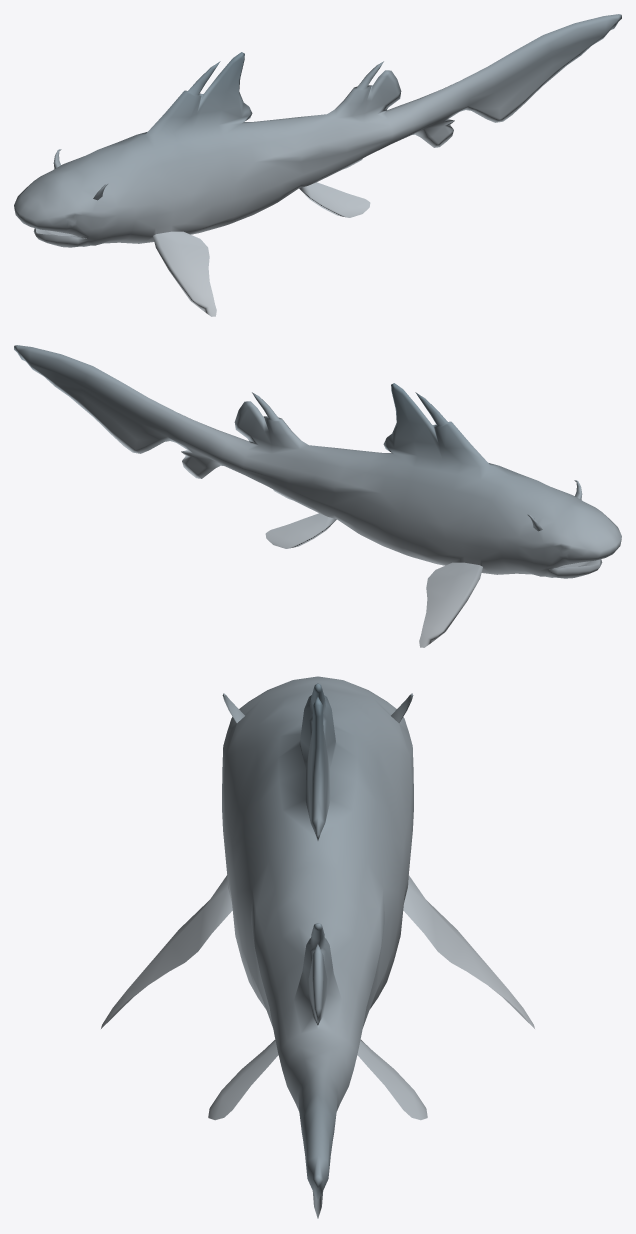
File: hybodus.glb
The picture shows the model from 3 angles, top to bottom: view 1: azimuth 30°, elevation 25°; view 2: azimuth 150°, elevation 25°; view 3: azimuth 270°, elevation 25°; orthographic projection. The views are drawn at different scales.
Size of the model in its own units: 10 by 3.26 by 3.12.
